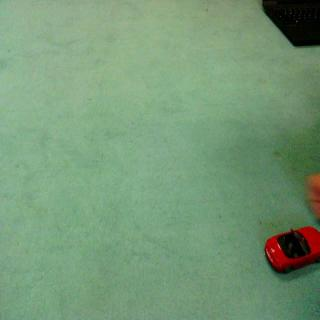car: (258, 224, 320, 282)
